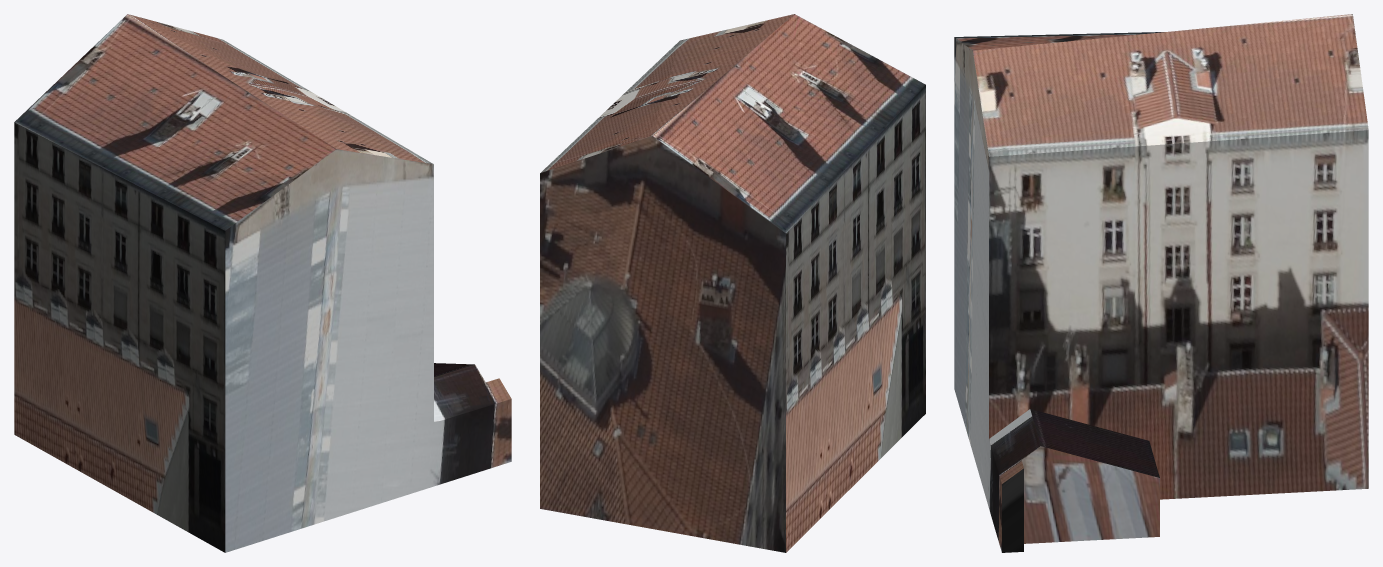
3 renders of one model, left to right at view 1: azimuth 30°, elevation 25°; view 2: azimuth 150°, elevation 25°; view 3: azimuth 270°, elevation 25°, orthographic. The views are drawn at different scales.
Parts seen in each view (by area): view 1: Z_UP; view 2: Z_UP; view 3: Z_UP.
Boxes of the visible parts, <box> form: Z_UP: <box>14,14,511,552</box>; Z_UP: <box>540,14,925,552</box>; Z_UP: <box>954,14,1368,552</box>.
Size of the model in its own units: 22.61 by 24.06 by 21.53.
2 materials, 1 textured.
